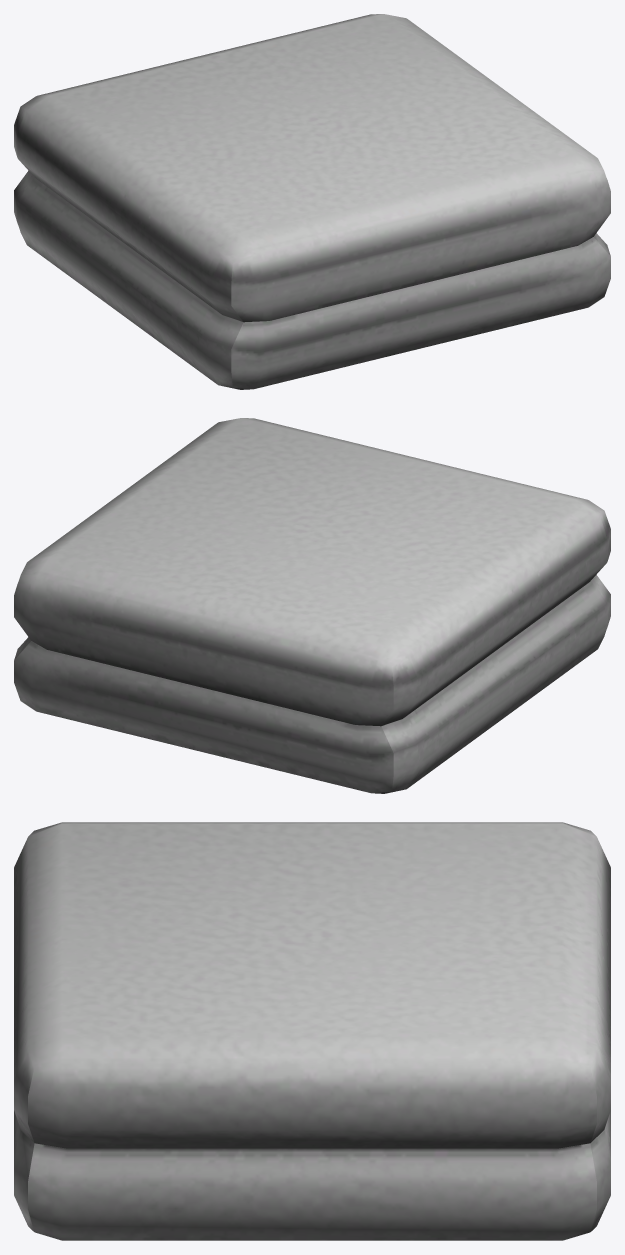
Rendered from toallas.fbx.
3 views of the same model, one above another, from view 1: azimuth 30°, elevation 25°; view 2: azimuth 150°, elevation 25°; view 3: azimuth 270°, elevation 25° (orthographic). The views are drawn at different scales.
Parts seen in each view (by area): view 1: s4studio_mesh_1.001; view 2: s4studio_mesh_1.001; view 3: s4studio_mesh_1.001.
Part boxes in pixels (box(x1,y1,x2,y2)): s4studio_mesh_1.001: box(14, 14, 610, 389); s4studio_mesh_1.001: box(14, 418, 610, 793); s4studio_mesh_1.001: box(14, 822, 610, 1240).
Bounding box in the file's own units: 29.93 × 11.08 × 29.67.
Materials: 1 (1 with a texture image).
